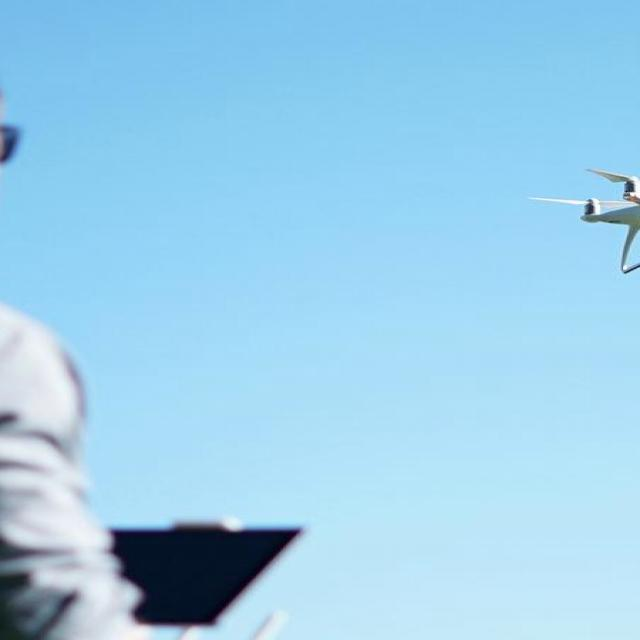drone: (503, 160, 640, 268)
